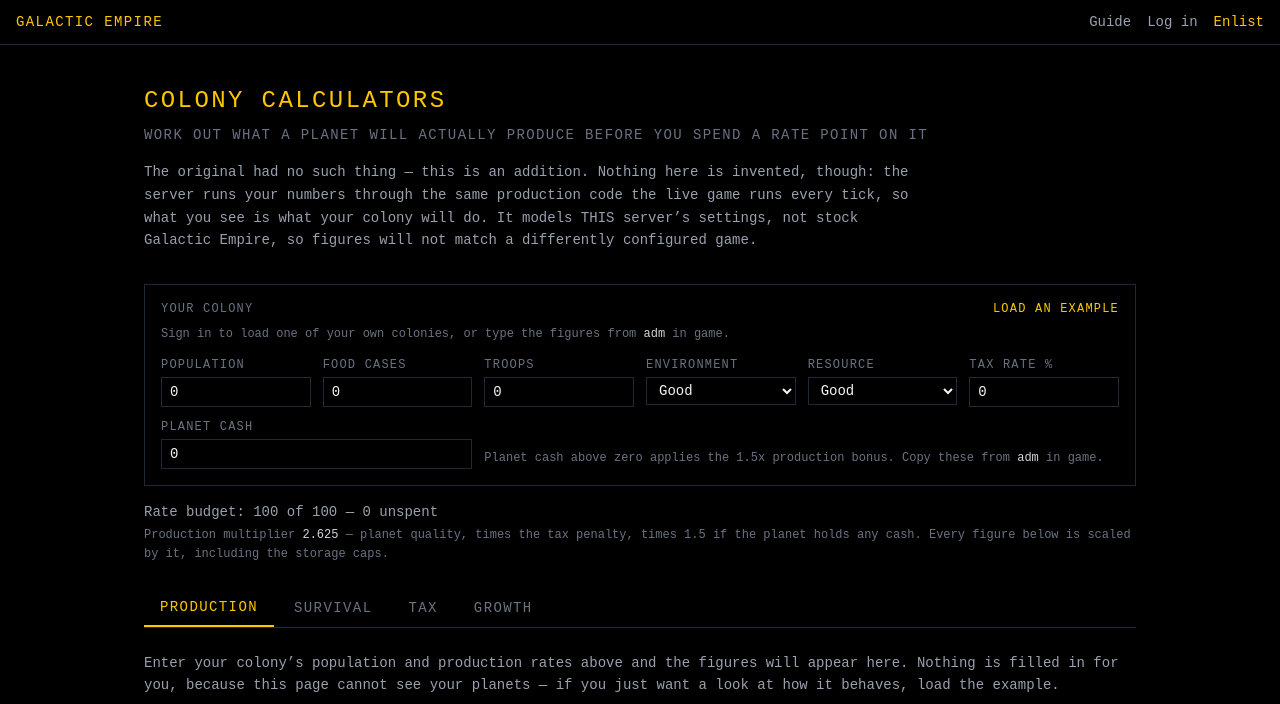
Calculators › says plainly when a tax rate costs more production than it collects
The image size is (1280, 704).
Expected: the text "Rate budget: 100 of 100 — 0 unspent" is shown, [144,504,438,520]
Click the button "Load an example".
click(1056, 309)  # box [993,301,1119,317]
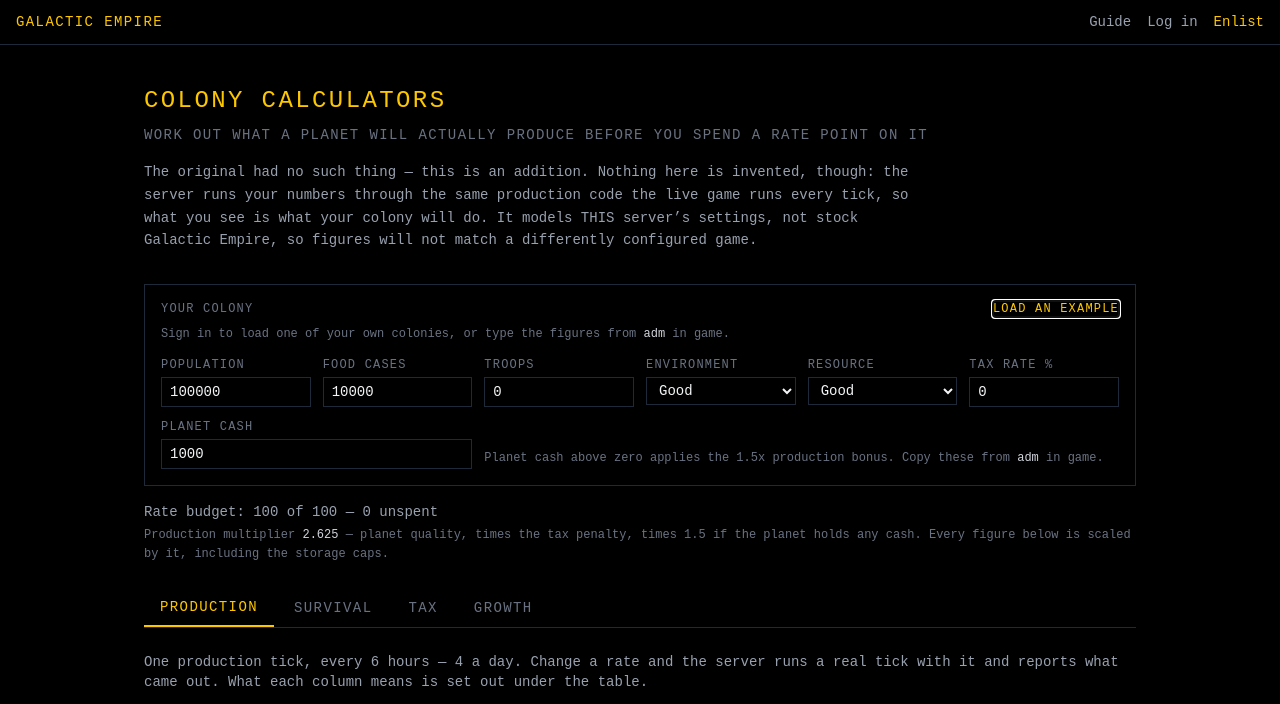
Expected: the text with test id "empty-prompt" is gone
Click the tab "Tax".
click(423, 608)  # box [392,588,454,626]
(page scrolled)
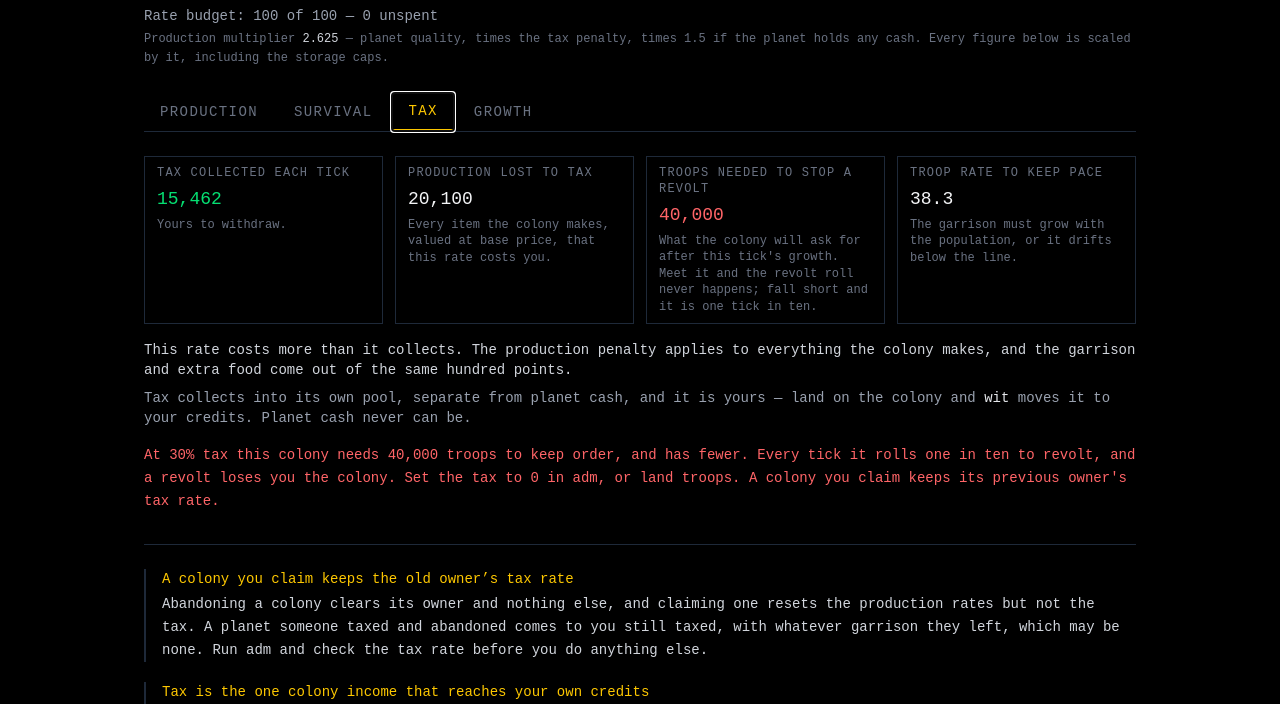
Expected: the text "40,000" is shown, [659,204,724,224]
Expected: the text with test id "tax-verdict" shows "costs more than it collects", [144,342,1135,378]
